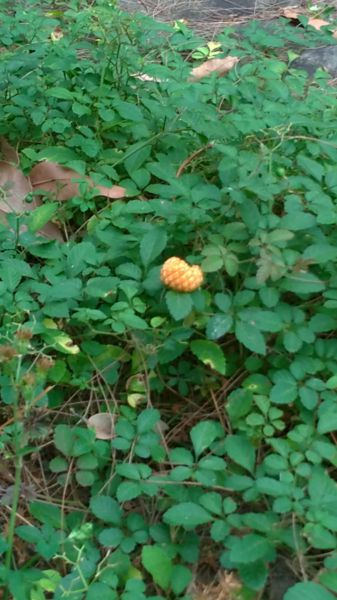eggs: (160, 253, 206, 294)
